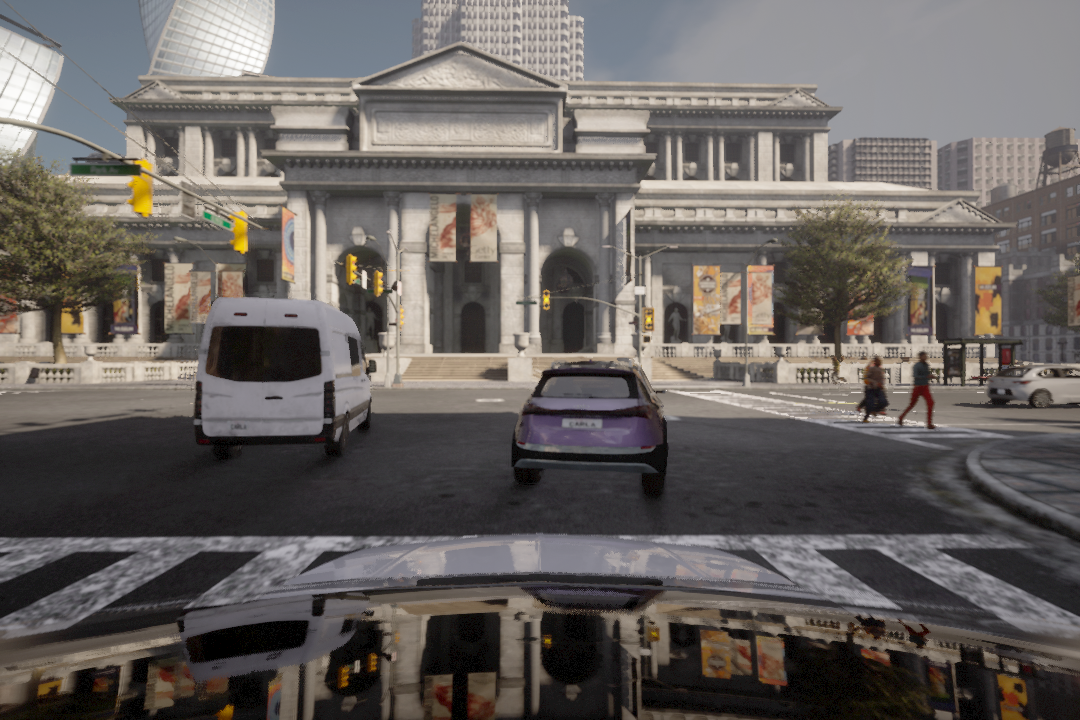TrafficLight: (641, 308, 656, 337), (541, 291, 551, 313)
walkside: (1, 534, 1069, 658)
